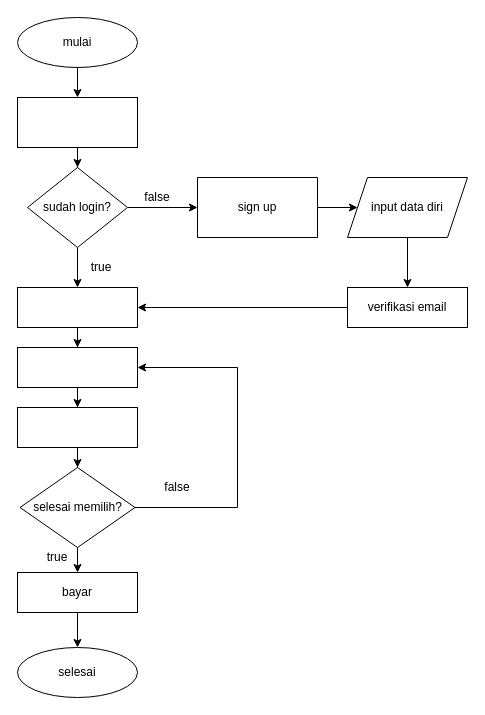
Image size: 485x715. Some labels were removed from this diagram. The shapes that lost their labels are listed below. From the top down, each one's box as (x1, y1, x2, y2) in pixels, then its label:
(16, 96, 138, 148): buka web
(16, 286, 138, 328): halaman utama
(16, 346, 138, 388): memilih item
(16, 406, 138, 448): menentukan qty
